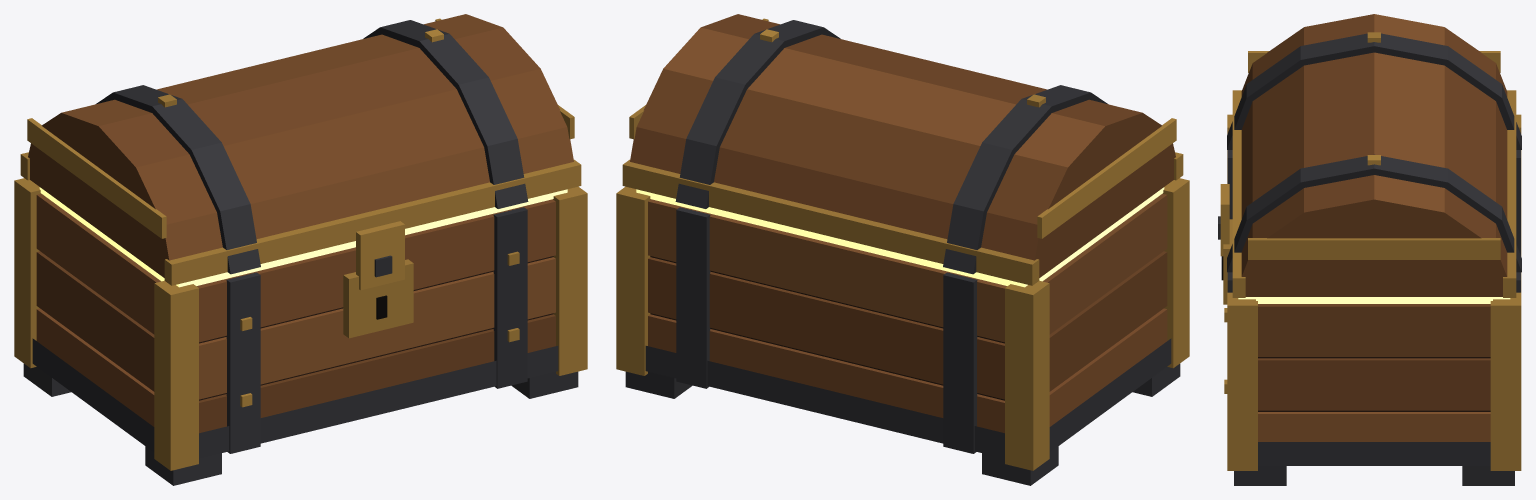
Rendered from treasure_chest.glb.
3 renders of one model, left to right at view 1: azimuth 30°, elevation 25°; view 2: azimuth 150°, elevation 25°; view 3: azimuth 270°, elevation 25°, orthographic. The views are drawn at different scales.
Visible parts, largest first — view 1: body, lid; view 2: body, lid; view 3: lid, body.
Boxes of the visible parts, x1,y1,x2,y2 form: body: (14, 178, 587, 485); lid: (20, 14, 581, 290); body: (616, 178, 1189, 485); lid: (622, 14, 1183, 285); lid: (1218, 14, 1521, 297); body: (1221, 114, 1521, 485).
Bounding box in the file's own units: 1.03 × 0.746 × 0.692.
